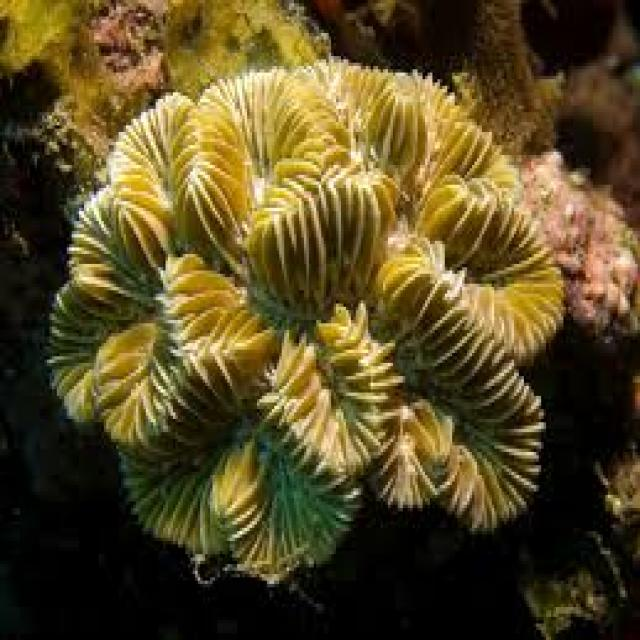Coral: (43, 52, 567, 587)
